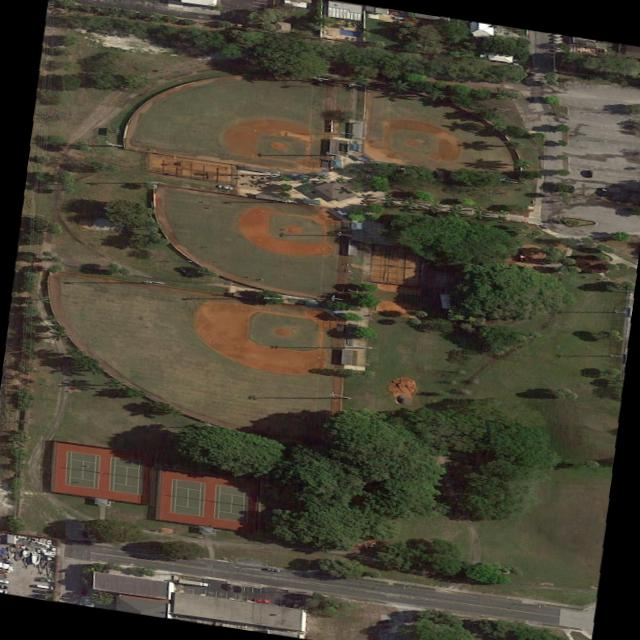large-vehicle: (179, 579, 211, 587)
ship: (30, 552, 43, 568), (21, 549, 31, 559)
small-vehicle: (214, 183, 233, 192), (35, 584, 53, 590), (254, 598, 271, 604), (265, 568, 282, 573), (33, 589, 50, 594), (33, 594, 50, 599), (585, 170, 594, 178), (0, 579, 10, 585), (235, 586, 243, 593), (226, 584, 233, 592), (38, 579, 54, 582), (0, 585, 8, 590)
